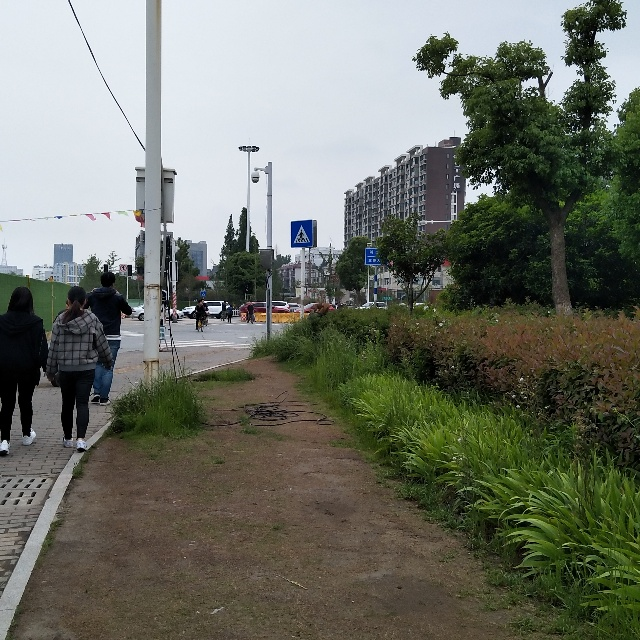crosswalk: (291, 220, 314, 248)
